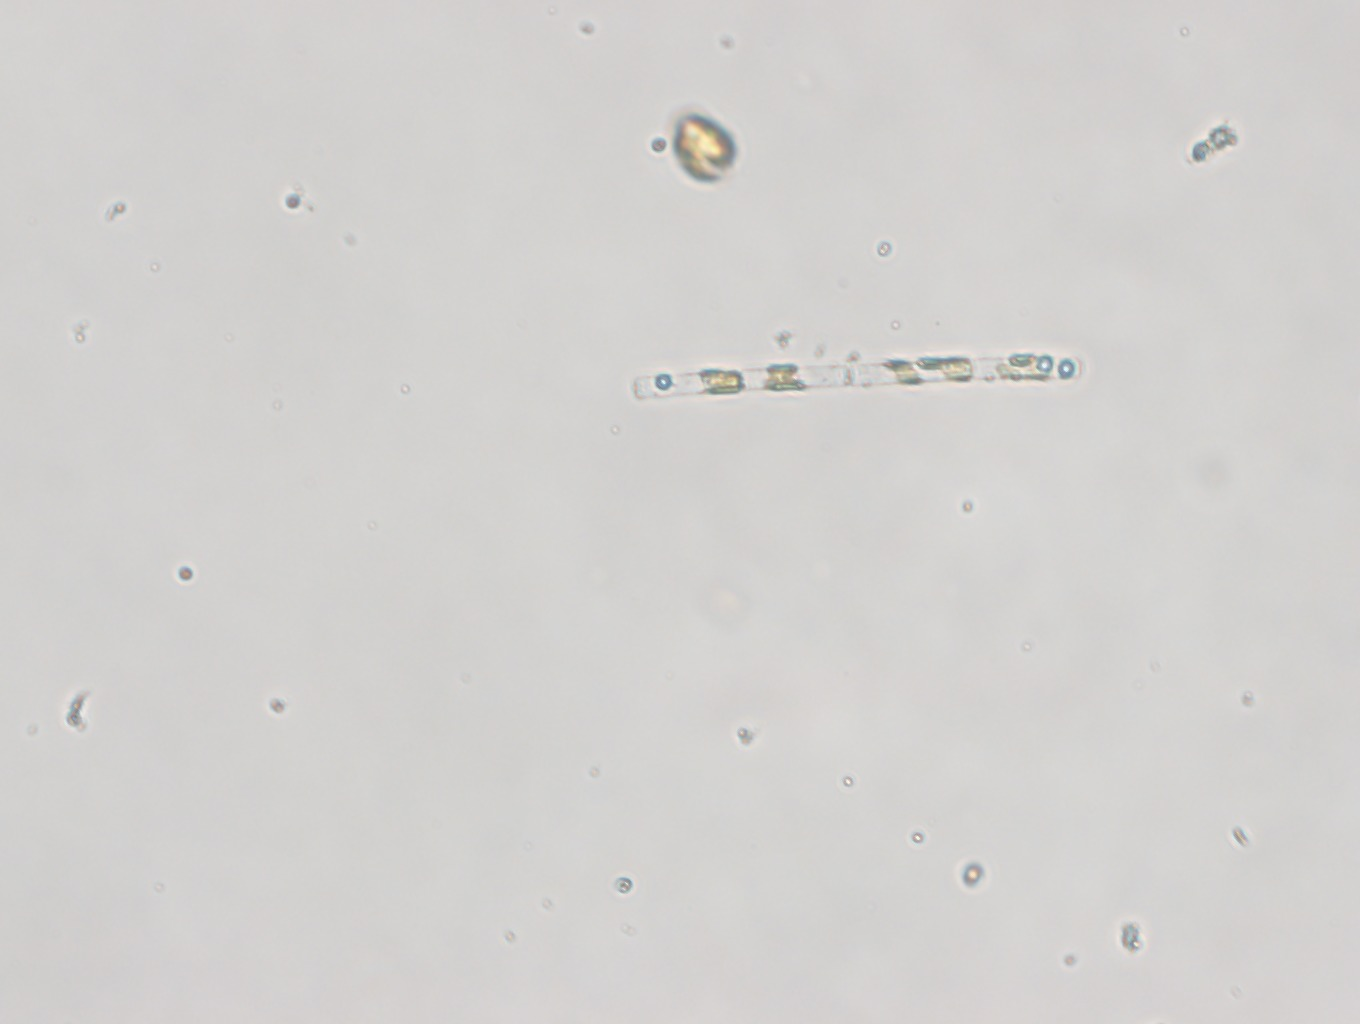guinardia flaccida: (621, 346, 1086, 404)
